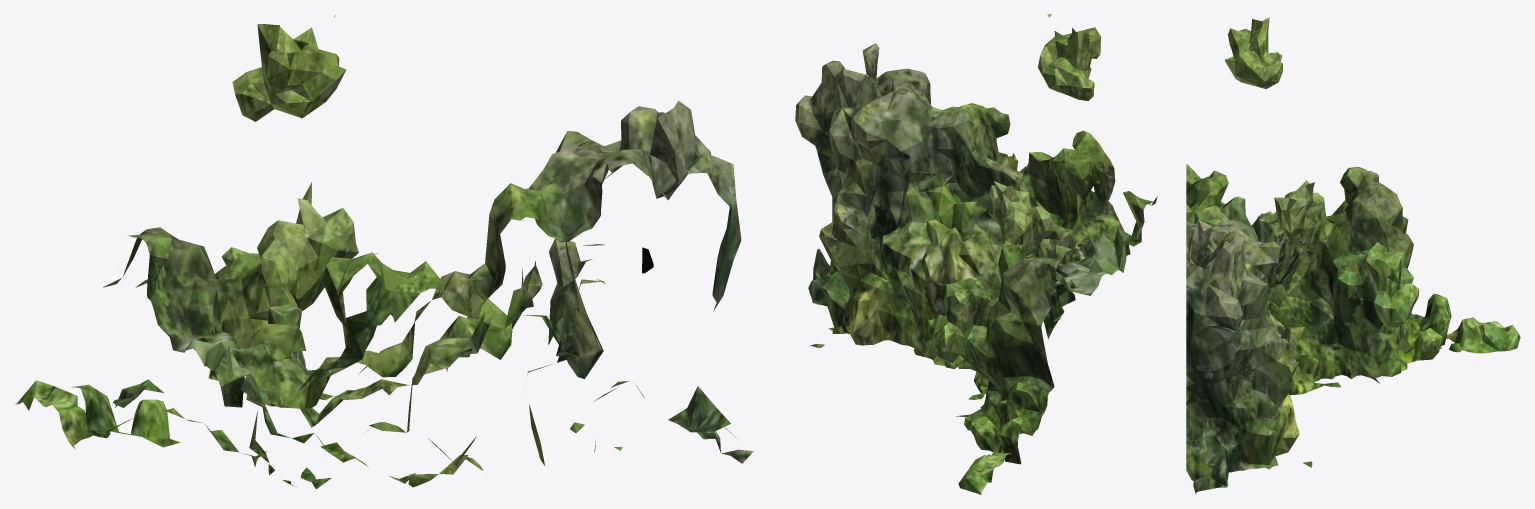
3 renders of one model, left to right at view 1: azimuth 30°, elevation 25°; view 2: azimuth 150°, elevation 25°; view 3: azimuth 270°, elevation 25°, orthographic. The views are drawn at different scales.
Size of the model in its own units: 26.11 by 26.11 by 23.44.
4 materials, 4 textured.
